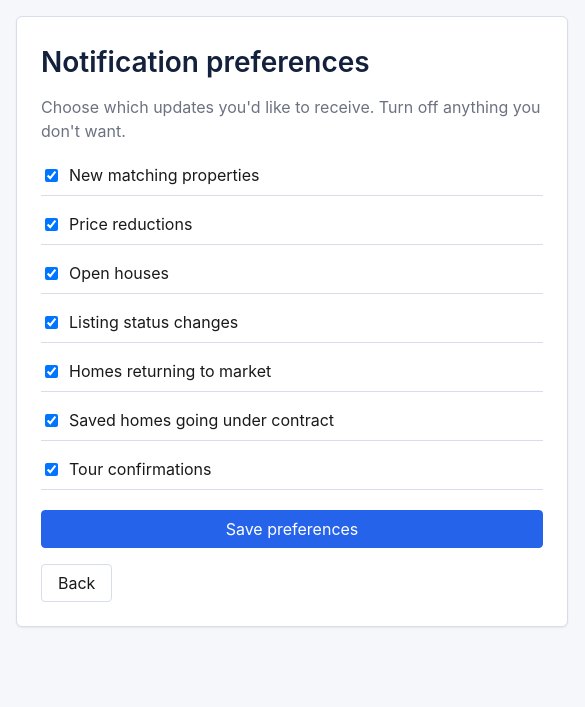
Test case: NotificationPreferencesPage › shows a validation error and keeps the form editable when saving fails validation
Expected: the checkbox labelled "Tour confirmations" is shown, [45,462,58,476]
Click the button "Save preferences": (292, 529) [41,510,543,548]
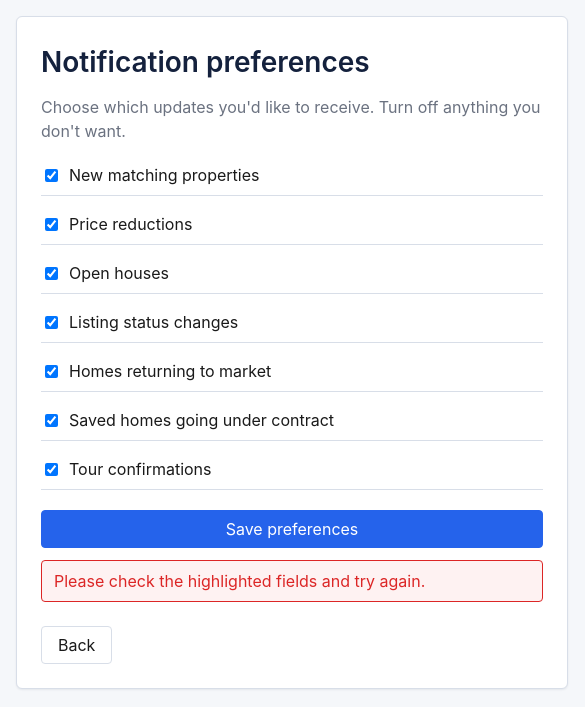
Now the message shows "check the highlighted fields", box [54,571,425,591]
